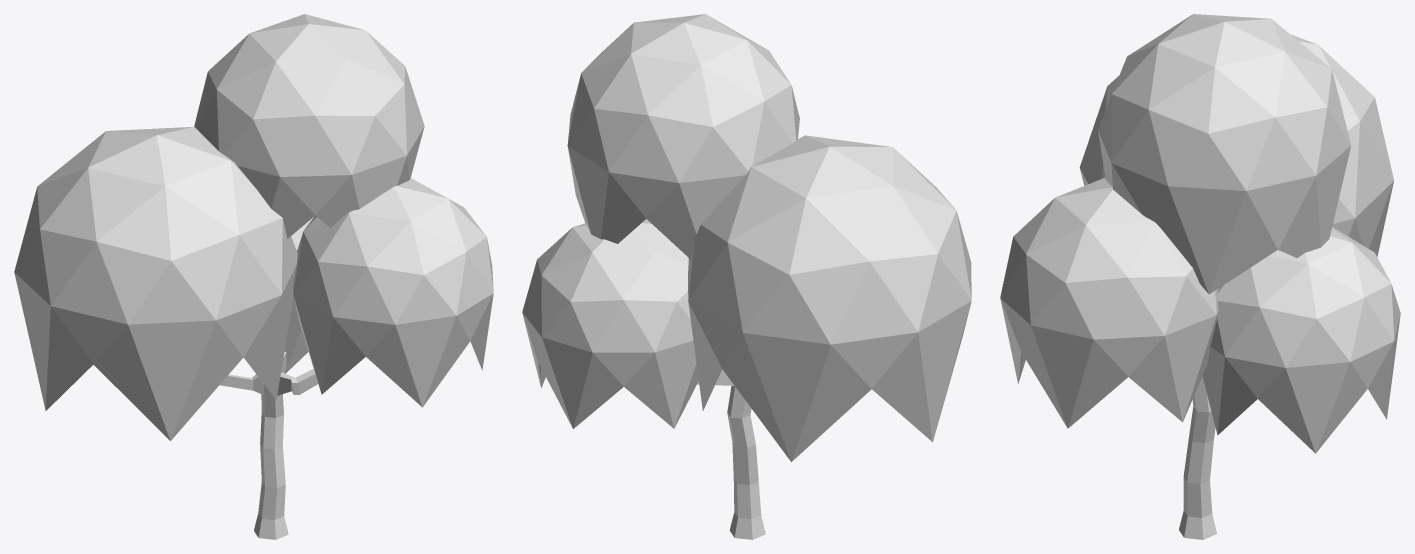
Rendered from resource__tree__willow-large.fbx.
3 renders of one model, left to right at view 1: azimuth 30°, elevation 25°; view 2: azimuth 150°, elevation 25°; view 3: azimuth 270°, elevation 25°, orthographic. The views are drawn at different scales.
Visible parts, largest first — view 1: Willow_Large; view 2: Willow_Large; view 3: Willow_Large.
Part boxes in pixels (x1,y1,x2,y2): Willow_Large: (14, 14, 493, 539); Willow_Large: (522, 14, 971, 539); Willow_Large: (1000, 14, 1400, 539).
Size of the model in its own units: 315 by 375 by 253.
